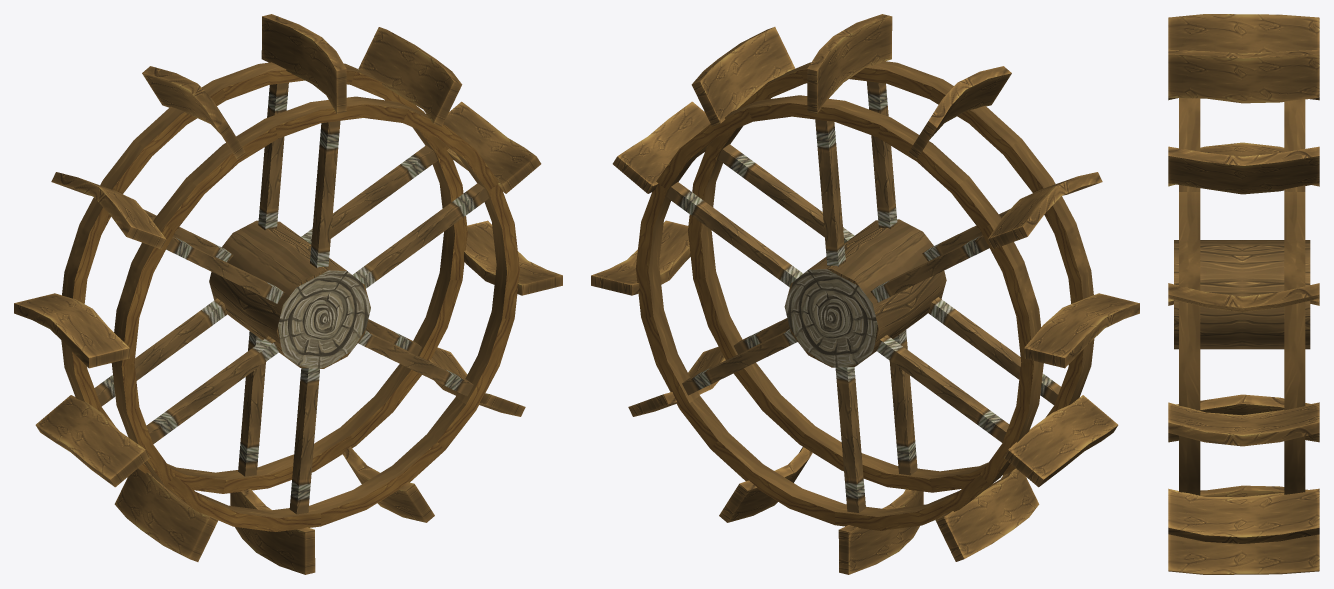
The model's file is Moulin.FBX.
3 renders of one model, left to right at view 1: azimuth 30°, elevation 25°; view 2: azimuth 150°, elevation 25°; view 3: azimuth 270°, elevation 25°, orthographic.
Parts seen in each view (by area): view 1: moulin; view 2: moulin; view 3: moulin.
Part boxes in pixels (<box>): moulin: <box>14,14,562,574</box>; moulin: <box>591,14,1139,574</box>; moulin: <box>1168,14,1319,574</box>.
Size of the model in its own units: 1056 by 1056 by 287.
1 material, 1 textured.
